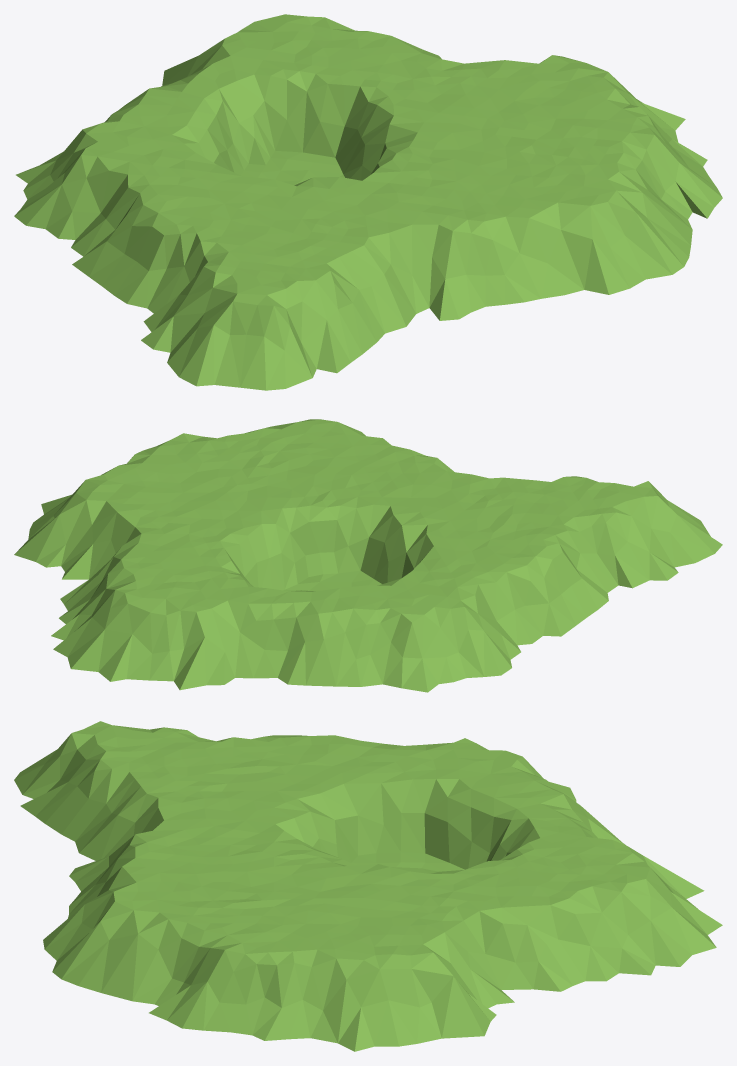
File: MT_Island_L_a_08.fbx
3 views of the same model, one above another, from view 1: azimuth 30°, elevation 25°; view 2: azimuth 150°, elevation 25°; view 3: azimuth 270°, elevation 25° (orthographic). The views are drawn at different scales.
Parts seen in each view (by area): view 1: MT_Island_L_a_08; view 2: MT_Island_L_a_08; view 3: MT_Island_L_a_08.
Boxes of the visible parts, <box> form: MT_Island_L_a_08: <box>14,14,722,390</box>; MT_Island_L_a_08: <box>14,419,722,692</box>; MT_Island_L_a_08: <box>14,721,722,1051</box>.
Size of the model in its own units: 9736 by 855 by 9571.
